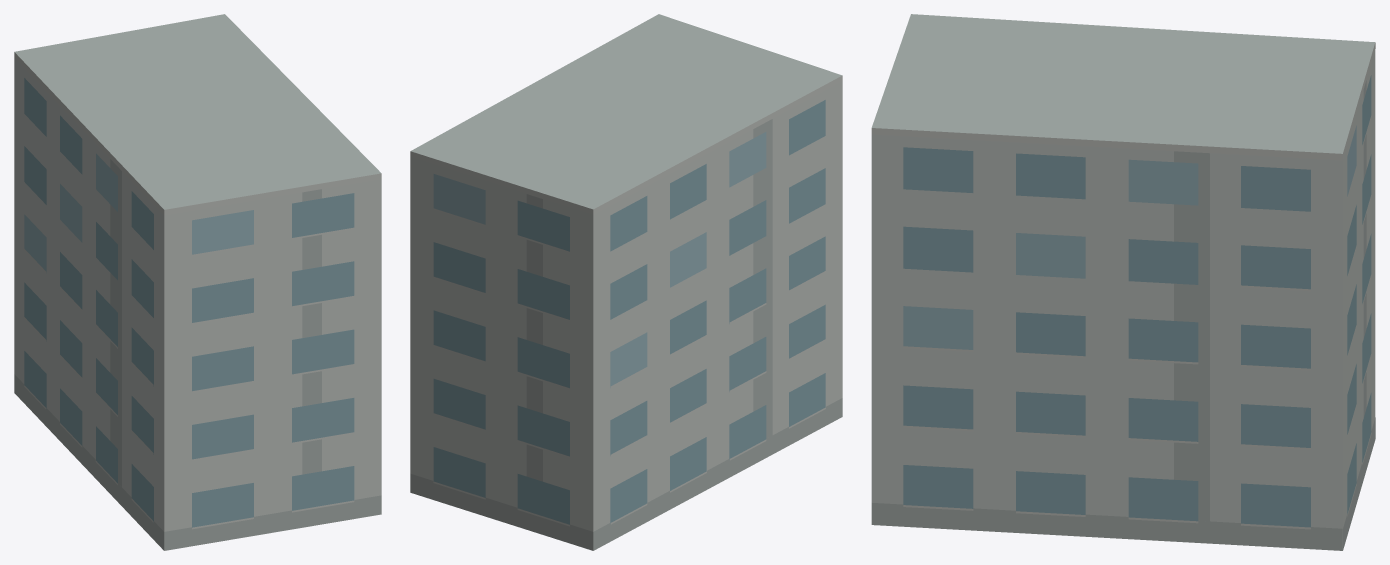
File: survey-upis-32990973.glb
3 views of the same model, side by side, from view 1: azimuth 30°, elevation 25°; view 2: azimuth 150°, elevation 25°; view 3: azimuth 270°, elevation 25° (orthographic). The views are drawn at different scales.
Visible parts, largest first — view 1: survey-upis-32990973.tmp; view 2: survey-upis-32990973.tmp; view 3: survey-upis-32990973.tmp.
Boxes of the visible parts, bbox=[...] form: survey-upis-32990973.tmp: bbox=[14, 14, 381, 550]; survey-upis-32990973.tmp: bbox=[410, 14, 842, 550]; survey-upis-32990973.tmp: bbox=[871, 14, 1375, 550].
Bounding box in the file's own units: 10.96 × 14.5 × 16.69.
